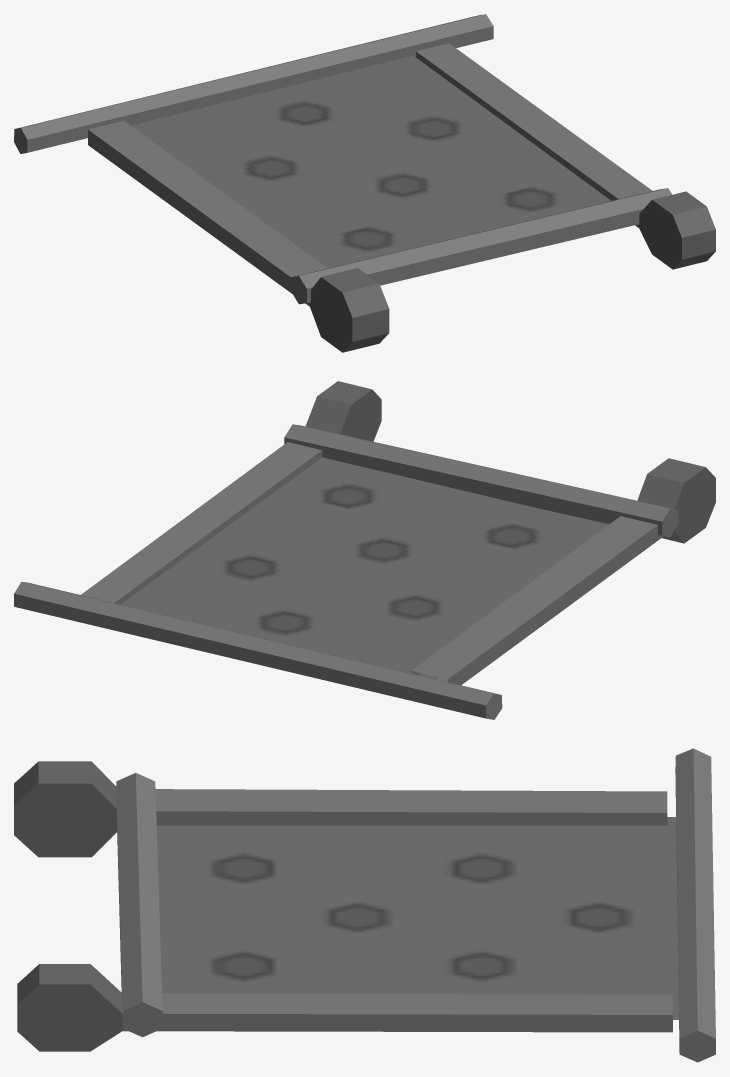
Rendered from SM_Prop_Scaffold_Ramp_02.glb.
3 renders of one model, top to bottom at view 1: azimuth 30°, elevation 25°; view 2: azimuth 150°, elevation 25°; view 3: azimuth 270°, elevation 25°, orthographic. The views are drawn at different scales.
Visible parts, largest first — view 1: SM_Prop_Scaffold_Ramp_02; view 2: SM_Prop_Scaffold_Ramp_02; view 3: SM_Prop_Scaffold_Ramp_02.
Part boxes in pixels (x1,y1,x2,y2): SM_Prop_Scaffold_Ramp_02: [14, 14, 715, 352]; SM_Prop_Scaffold_Ramp_02: [14, 381, 715, 719]; SM_Prop_Scaffold_Ramp_02: [14, 748, 715, 1062].
Bounding box in the file's own units: 1.02 × 0.1254 × 1.08.
Materials: 1 (1 with a texture image).
